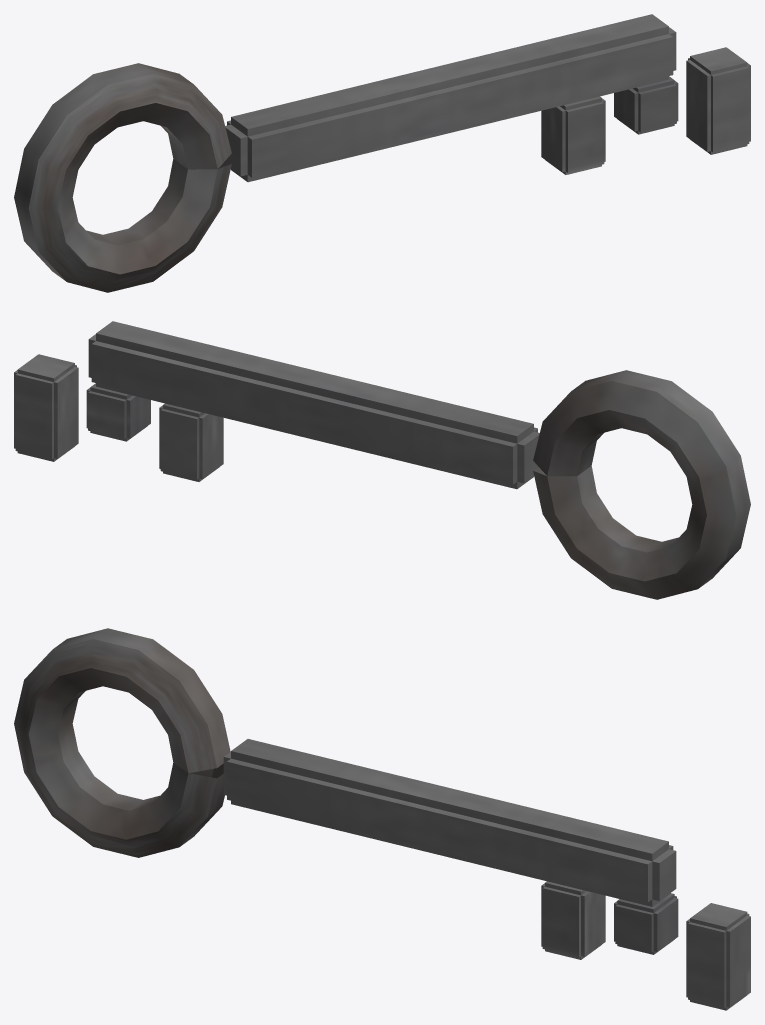
Rendered from personal_key.gltf.
3 views of the same model, one above another, from view 1: azimuth 30°, elevation 25°; view 2: azimuth 150°, elevation 25°; view 3: azimuth 330°, elevation 25° (orthographic).
Parts seen in each view (by area): view 1: Body; view 2: Body; view 3: Body.
Boxes of the visible parts, bbox=[...] form: Body: bbox=[14, 14, 750, 292]; Body: bbox=[14, 321, 750, 599]; Body: bbox=[14, 628, 750, 1010].
Size of the model in its own units: 0.099 by 0.0282 by 0.007.
Materials: 1 (1 with a texture image).
